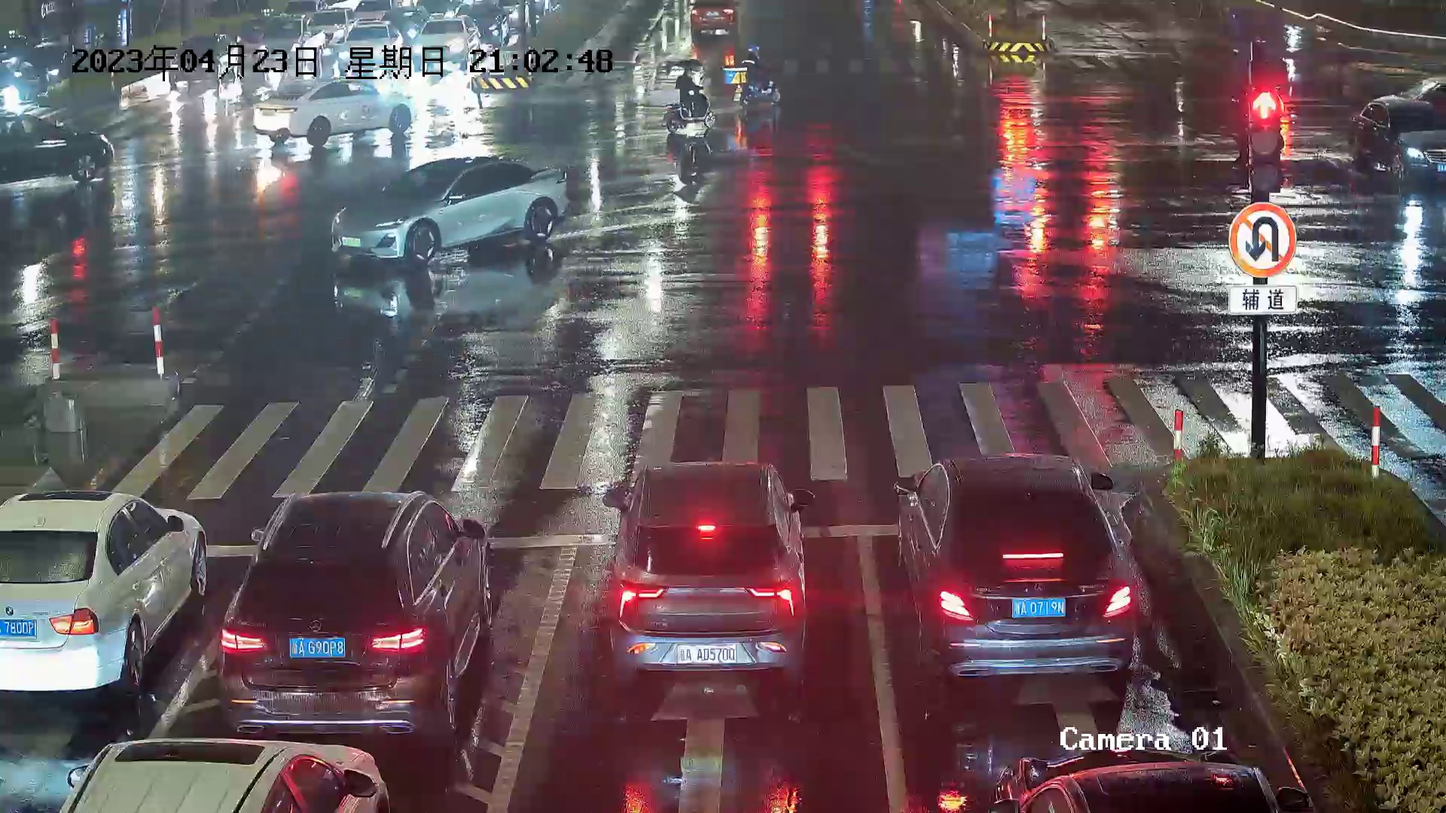vehicle: (217, 477, 496, 738), (891, 445, 1135, 682), (601, 460, 812, 686), (0, 480, 206, 710), (320, 150, 570, 262), (249, 70, 414, 148), (1344, 93, 1445, 190), (0, 105, 117, 185)
